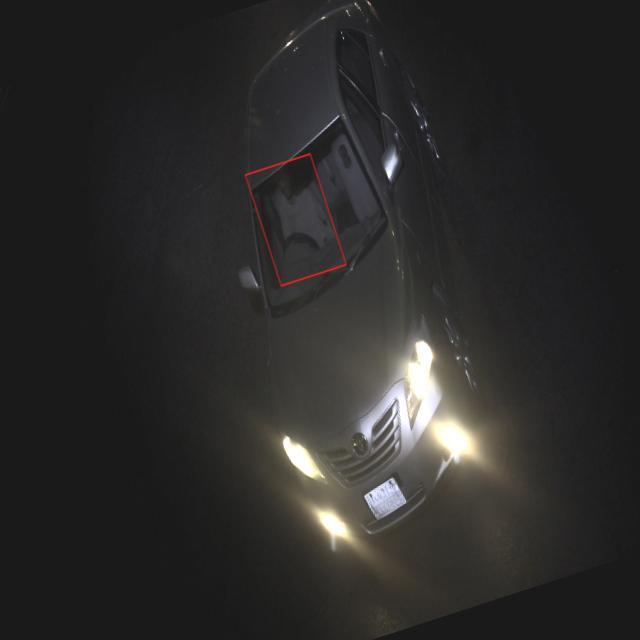windshield: (226, 108, 411, 321)
